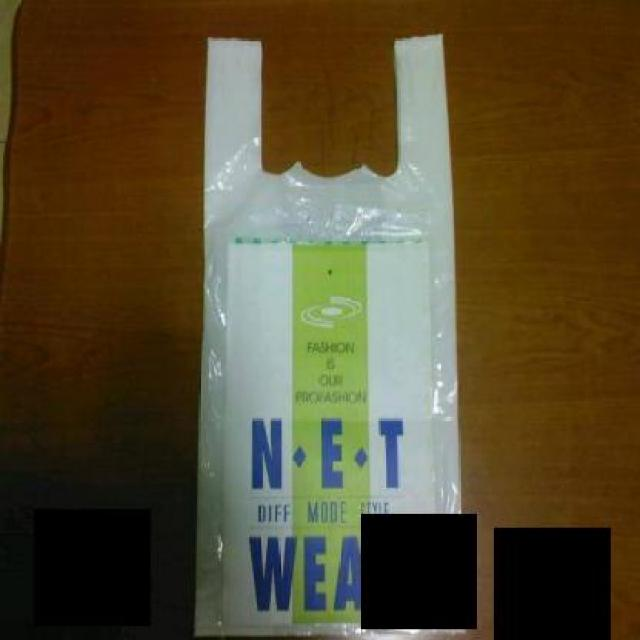plastic bag: (194, 26, 471, 639)
